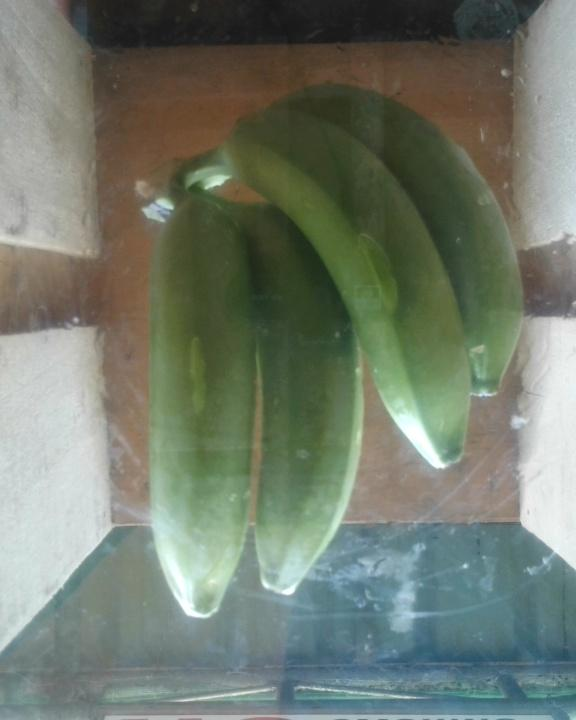SPOT: (103, 72, 565, 631)
